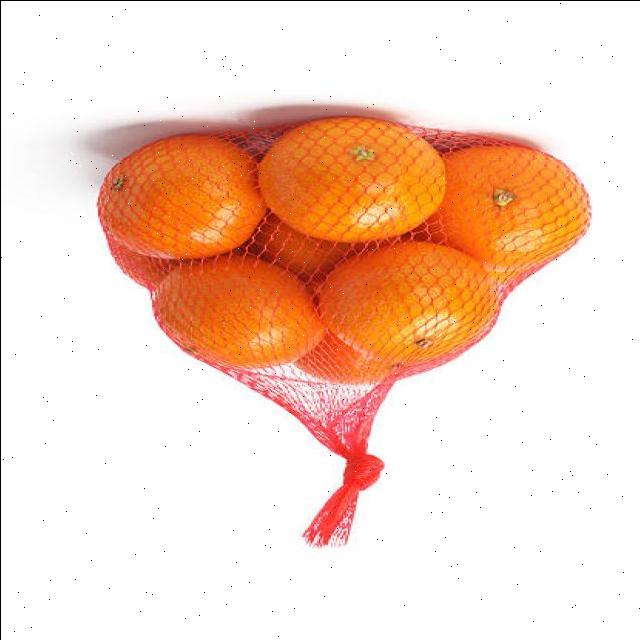Orange: (418, 142, 592, 283), (257, 115, 446, 244), (317, 239, 500, 368), (97, 133, 266, 261), (150, 253, 325, 370)
